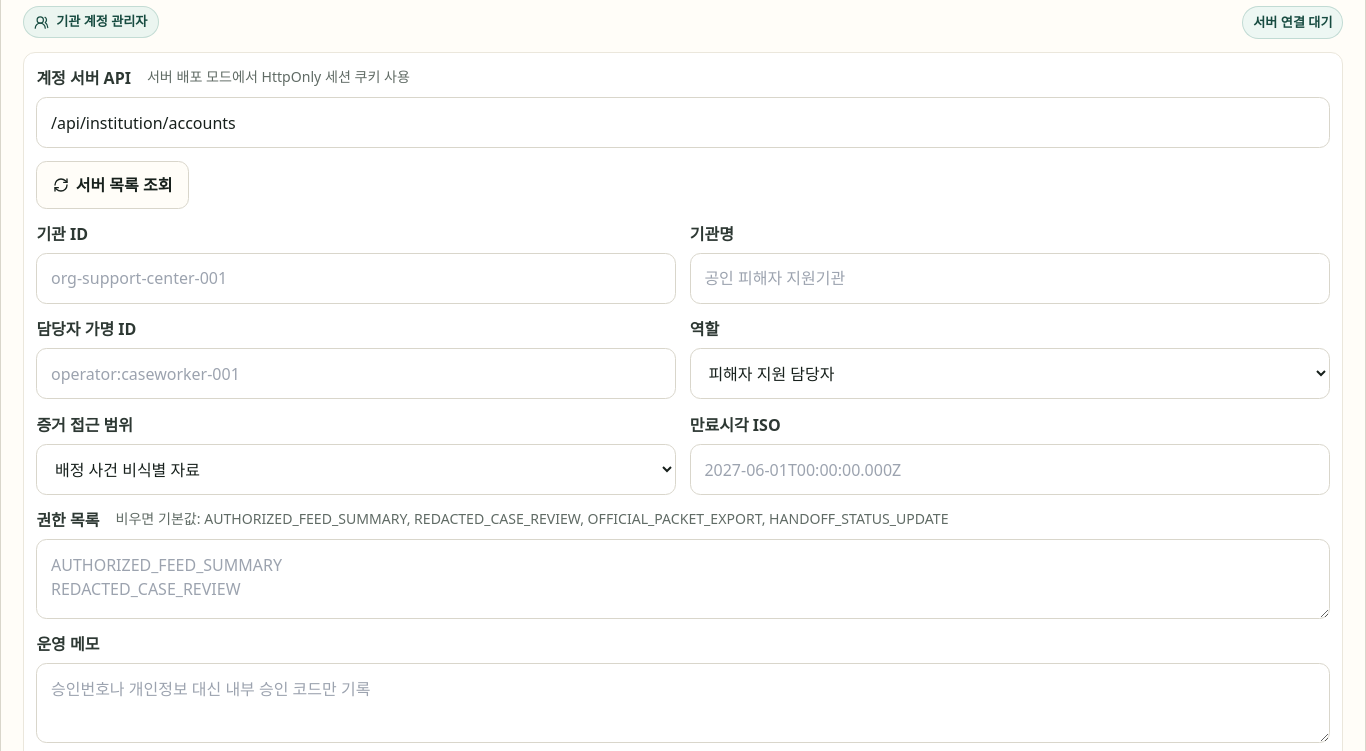
Scenario: InstitutionAccountAdminPanel › explains when the server account route is not materialized
Click the button "서버 목록 조회".
click(112, 185)  # box top-left (36, 161), bottom-right (189, 209)
(page scrolled)
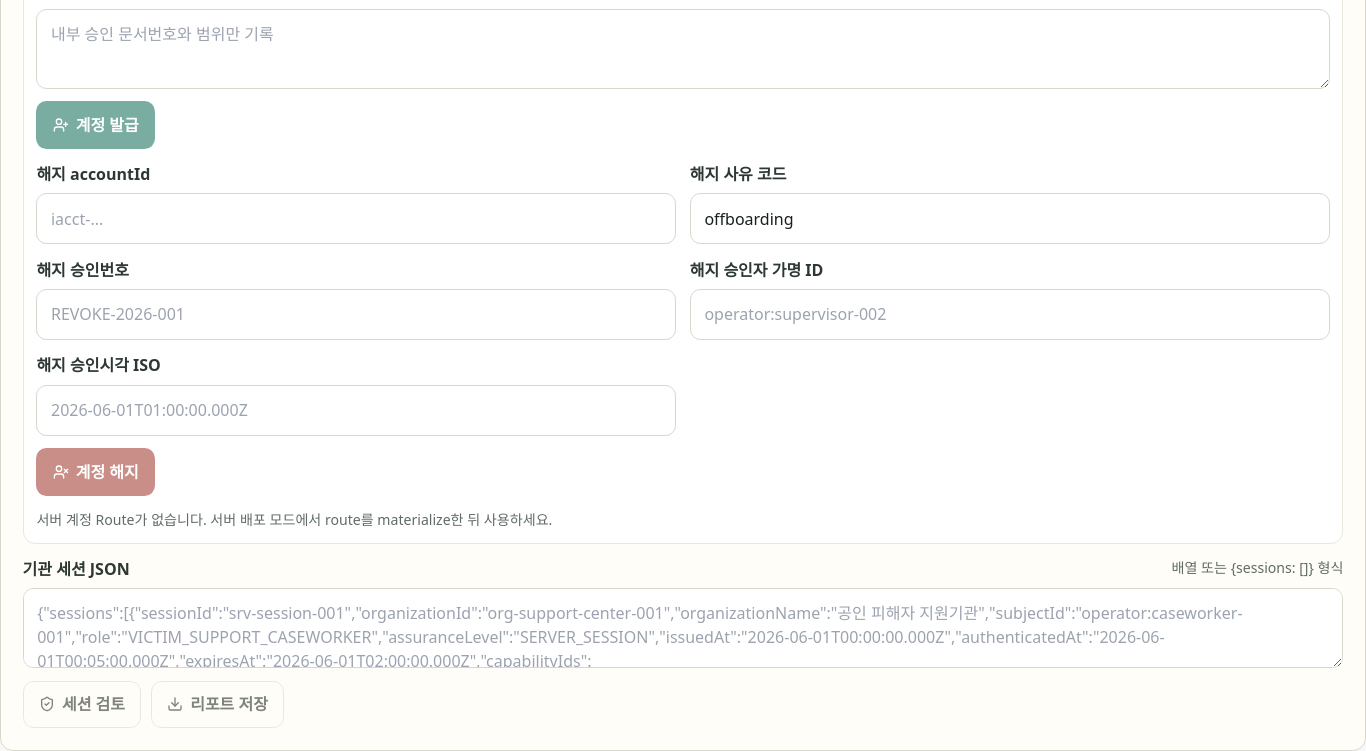
Now the text "서버 계정 Route가 없습니다. 서버 배포 모드에서 route를 materialize한 뒤 사용하세요." is shown, box top-left (36, 510), bottom-right (552, 529)
